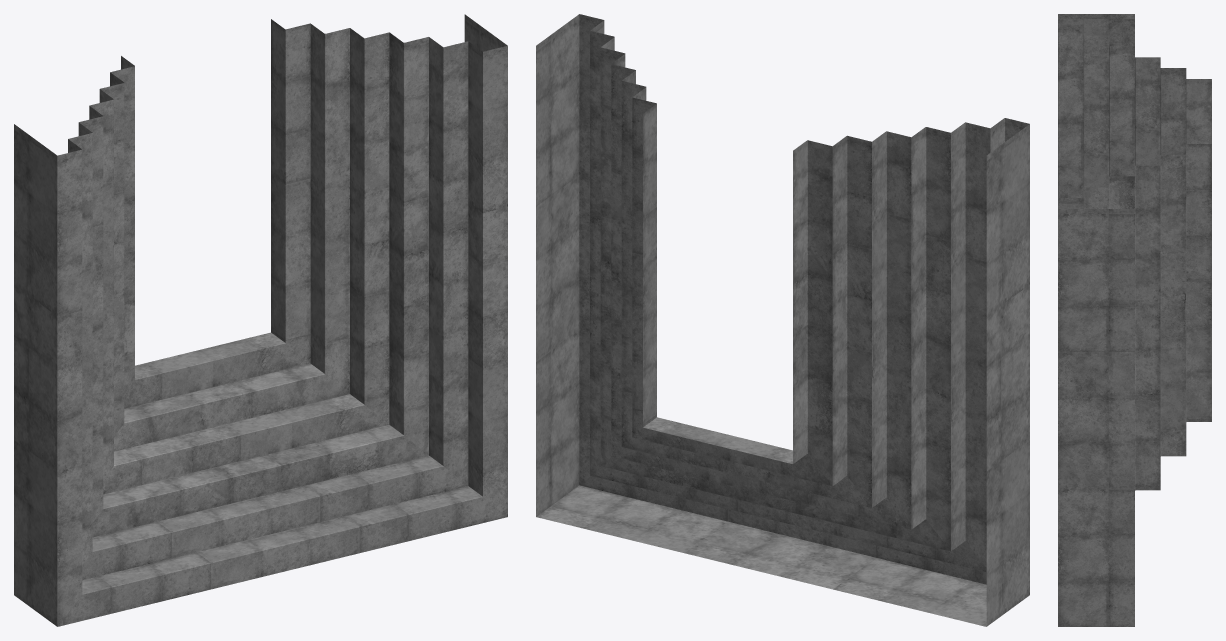
Rendered from SM_Wall_38.fbx.
The picture shows the model from 3 angles, left to right: view 1: azimuth 30°, elevation 25°; view 2: azimuth 150°, elevation 25°; view 3: azimuth 270°, elevation 25°; orthographic projection. The views are drawn at different scales.
Visible parts, largest first — view 1: SM_Wall_51; view 2: SM_Wall_51; view 3: SM_Wall_51.
Part boxes in pixels (left/top/right/bottom): SM_Wall_51: left=14, top=14, right=507, bottom=626; SM_Wall_51: left=536, top=14, right=1029, bottom=626; SM_Wall_51: left=1058, top=14, right=1211, bottom=626.
Size of the model in its own units: 600 by 600 by 200.
